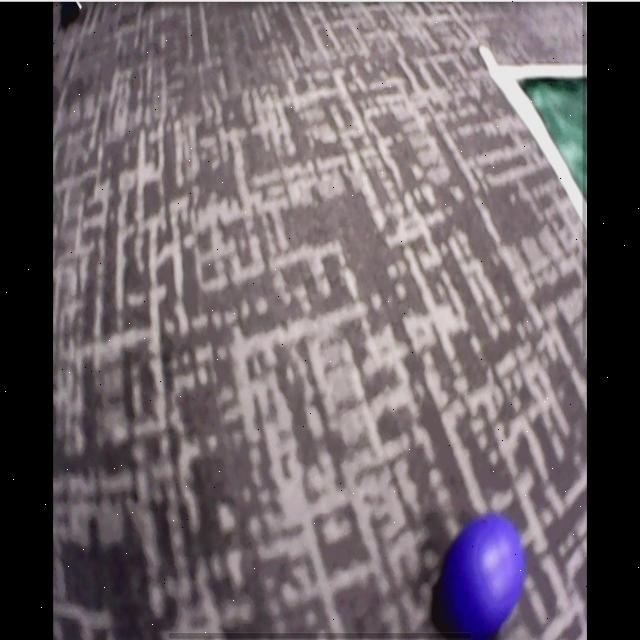ball: (449, 516, 527, 635)
